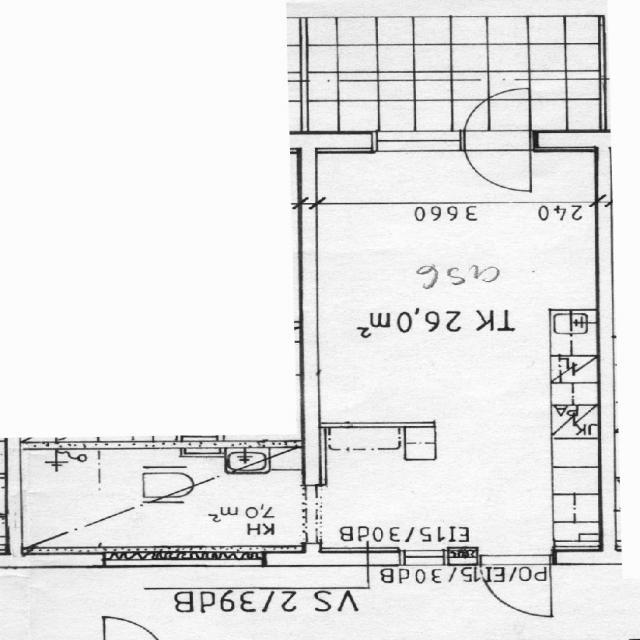door: (480, 546, 550, 616), (464, 131, 530, 202), (464, 82, 530, 153)
